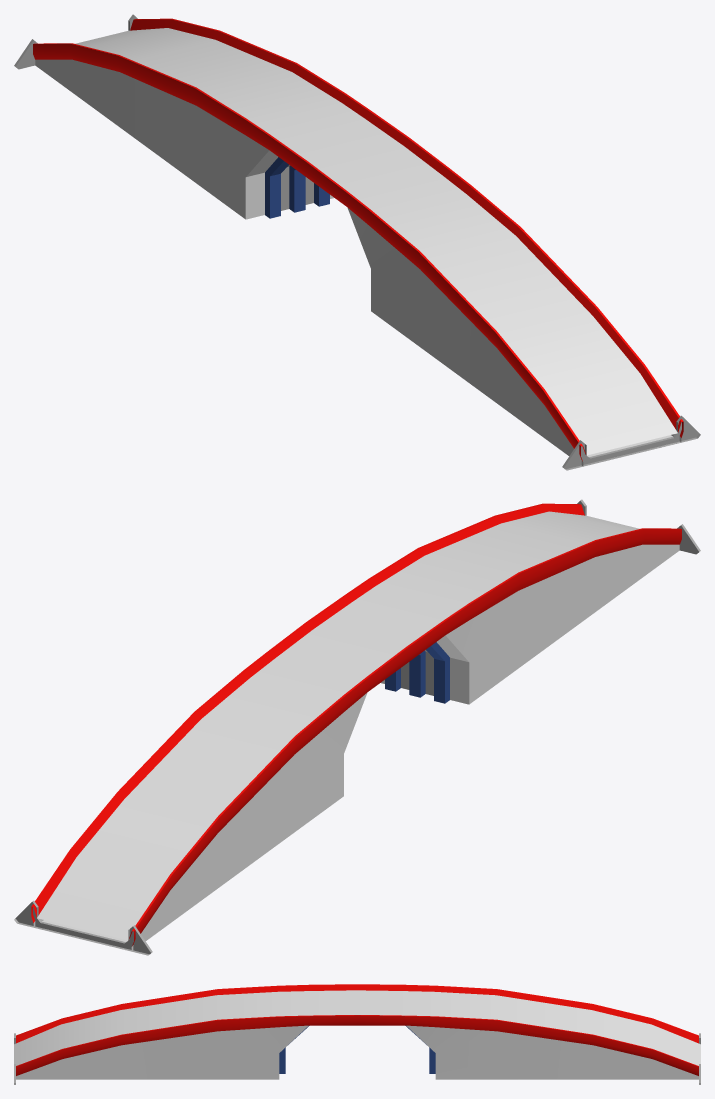
Rendered from RacetrackBridge.fbx.
The picture shows the model from 3 angles, top to bottom: view 1: azimuth 30°, elevation 25°; view 2: azimuth 150°, elevation 25°; view 3: azimuth 270°, elevation 25°; orthographic projection. The views are drawn at different scales.
Parts seen in each view (by area): view 1: RacetrackBridge.001, RacetrackBridge.003, RacetrackBridge.004; view 2: RacetrackBridge.001, RacetrackBridge.003, RacetrackBridge.004; view 3: RacetrackBridge.003, RacetrackBridge.001, RacetrackBridge.004.
Boxes of the visible parts, <box> form: RacetrackBridge.001: <box>75,28,677,455</box>; RacetrackBridge.003: <box>14,14,700,470</box>; RacetrackBridge.004: <box>33,18,683,461</box>; RacetrackBridge.001: <box>37,511,639,940</box>; RacetrackBridge.003: <box>14,499,700,955</box>; RacetrackBridge.004: <box>31,503,681,946</box>; RacetrackBridge.003: <box>14,1025,700,1084</box>; RacetrackBridge.001: <box>14,990,700,1065</box>; RacetrackBridge.004: <box>16,984,698,1075</box>.
Bounding box in the file's own units: 3604 × 2609 × 25009.
